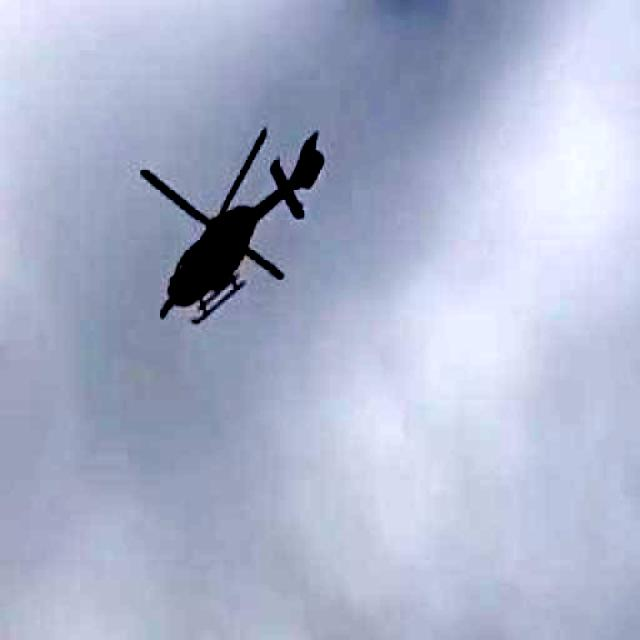drone: (106, 74, 348, 340)
